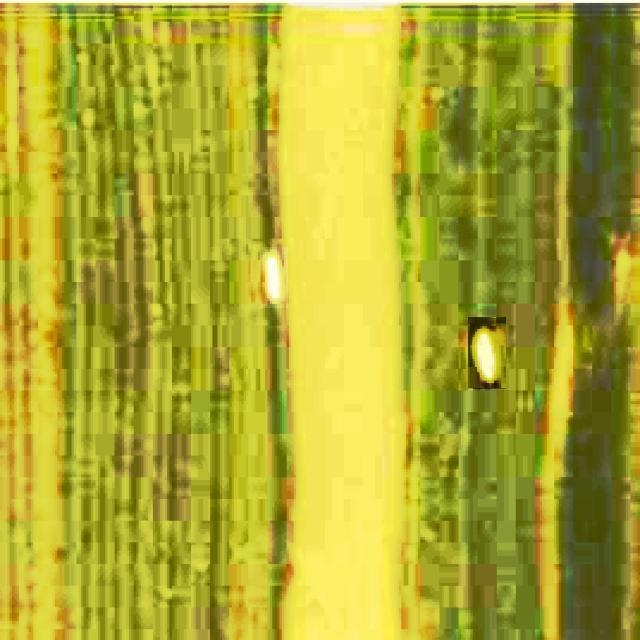whorl-maggot: (468, 318, 506, 390), (261, 247, 289, 308)
